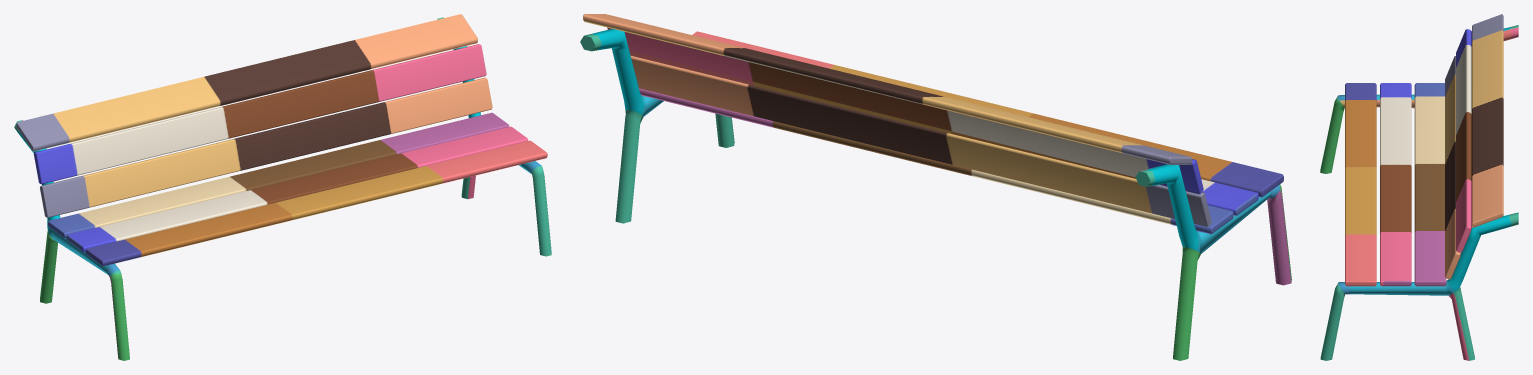
File: street_furniture_outside_bench_3.fbx
3 renders of one model, left to right at view 1: azimuth 30°, elevation 25°; view 2: azimuth 150°, elevation 25°; view 3: azimuth 270°, elevation 25°, orthographic. The views are drawn at different scales.
Visible parts, largest first — view 1: bench_3; view 2: bench_3; view 3: bench_3.
Part boxes in pixels (left/top/right/bottom): bench_3: left=14, top=14, right=551, bottom=360; bench_3: left=580, top=14, right=1291, bottom=360; bench_3: left=1320, top=14, right=1518, bottom=360.
Size of the model in its own units: 181 by 65.07 by 76.47.
